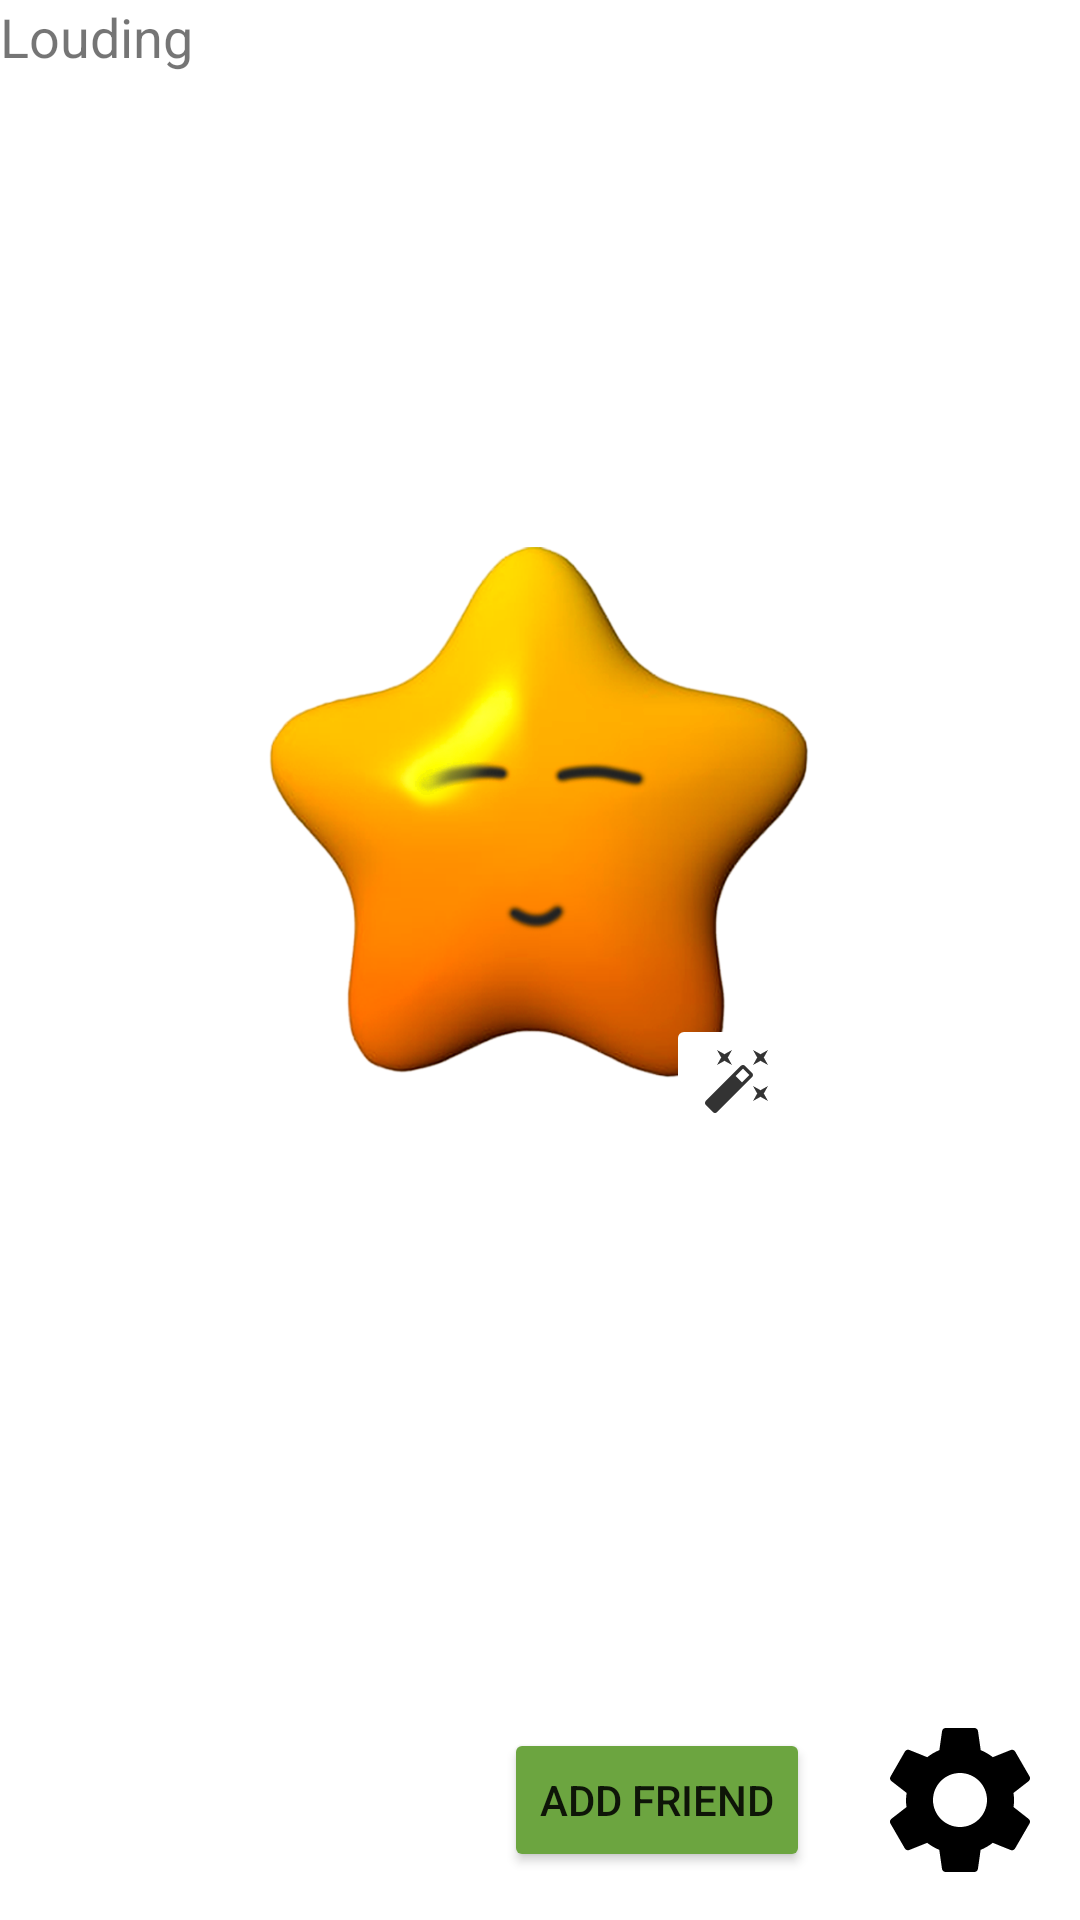

Screen size 1080 x 1920. Icon name, then its center in pixels as point (x, y):
change star: point (717, 1063)
settings: point (960, 1800)
